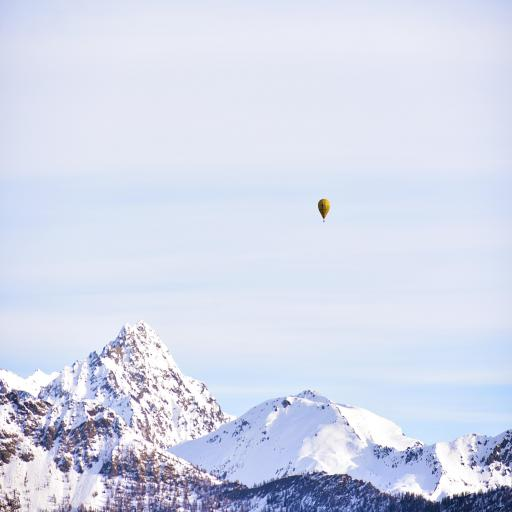hot air ballon: (318, 199, 330, 222)
